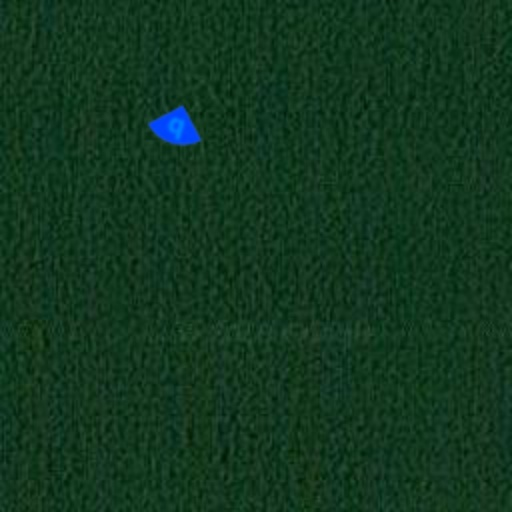quarter_circle: (142, 94, 210, 162)
